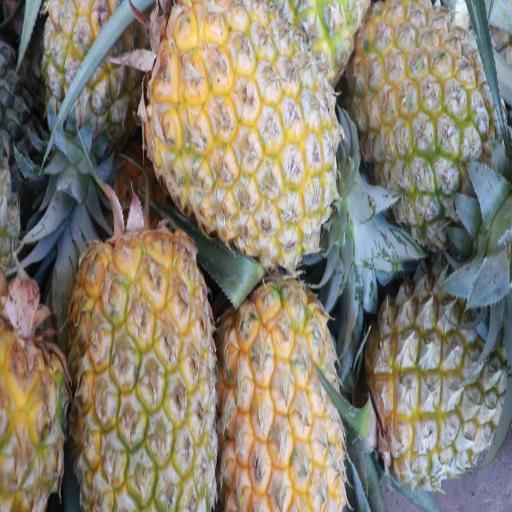------------------------------: (377, 270, 511, 484), (45, 0, 137, 183)
Pineapple - v8 v1: (151, 0, 332, 246), (77, 224, 214, 512), (356, 0, 493, 212), (219, 284, 345, 512)
